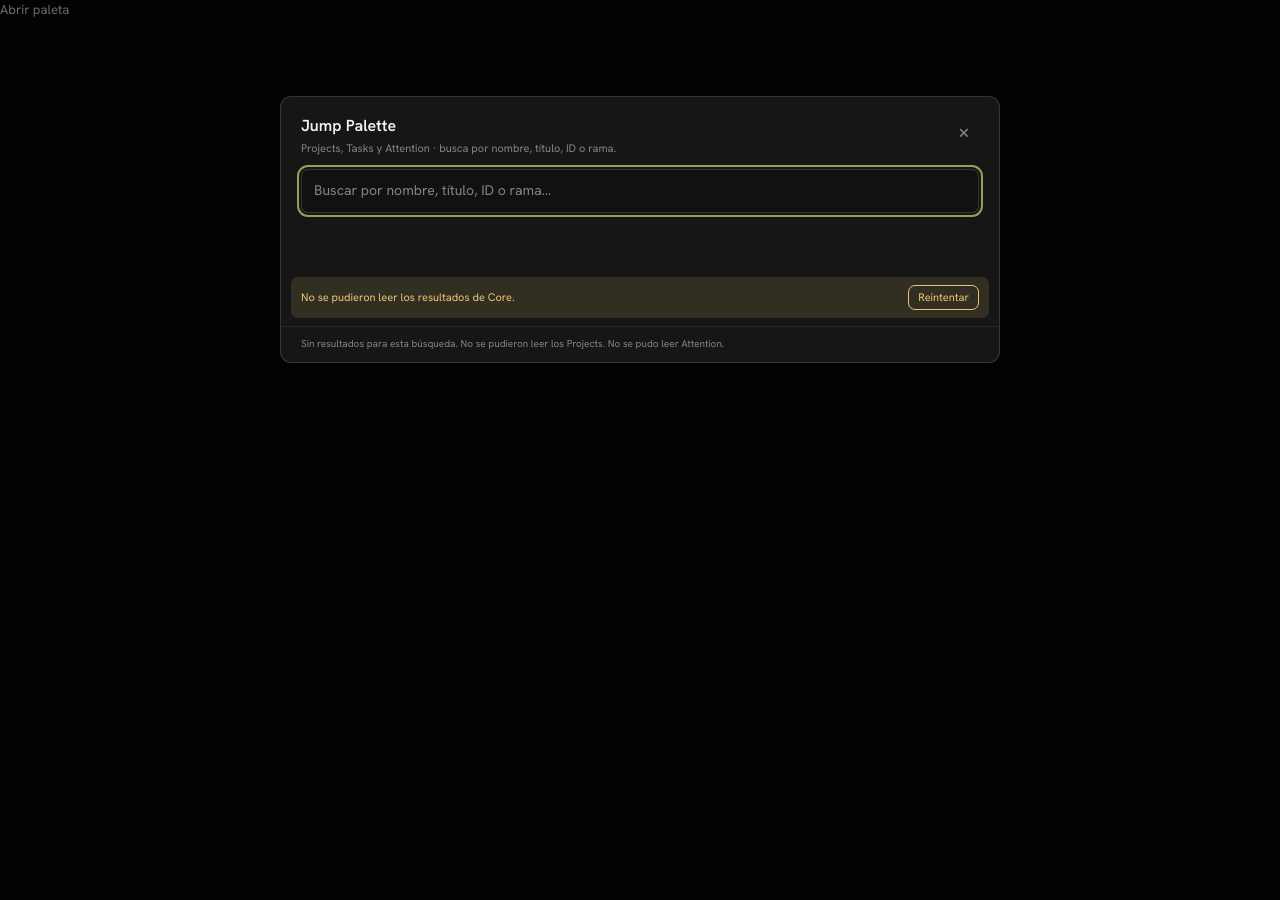
Test: JumpPaletteHost · lecturas › muestra un error recuperable cuando Core no responde y reintenta
The width and height of the screenshot is (1280, 900).
Expected: the message "No se pudieron leer los resultados de Core. Reintentar" is shown, [291,276,989,318]
Click the button "Reintentar".
click(944, 297)  # box [908,284,979,310]
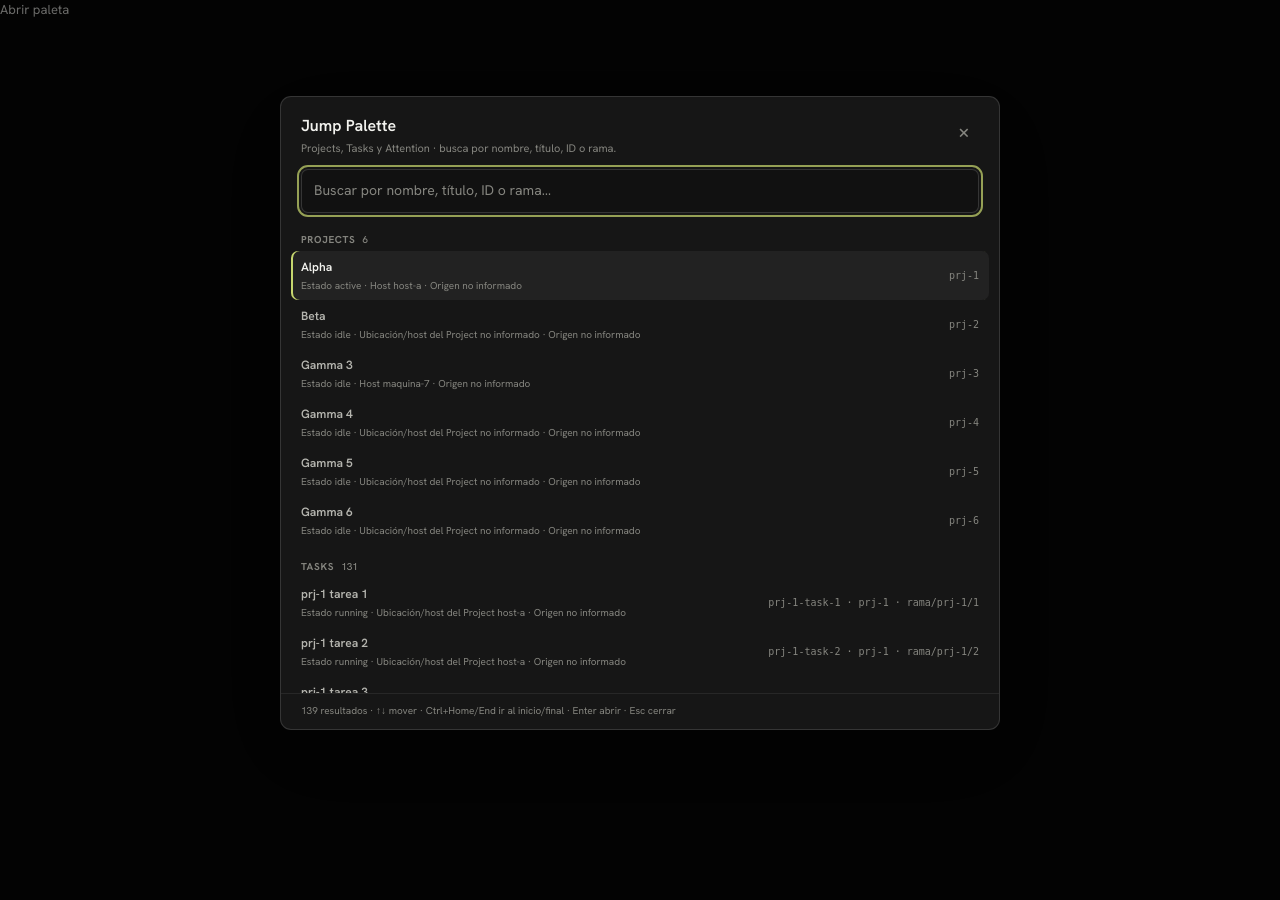
Result: the option "Alpha" is shown at [291,250,989,300]
Result: the message "No se pudieron leer los resultados de Core. Reintentar" is gone
